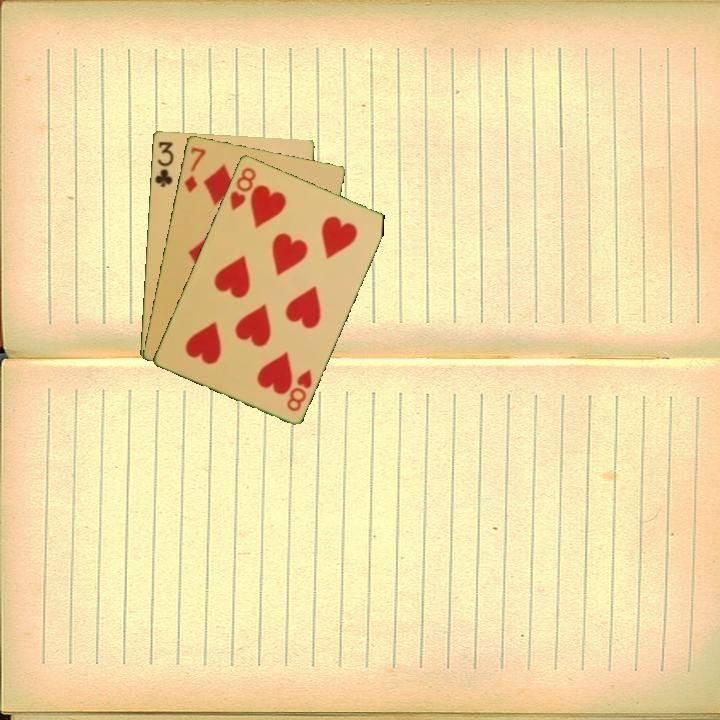3c: (151, 137, 176, 190)
7d: (180, 143, 208, 195)
8h: (226, 163, 259, 213), (283, 365, 315, 414)
